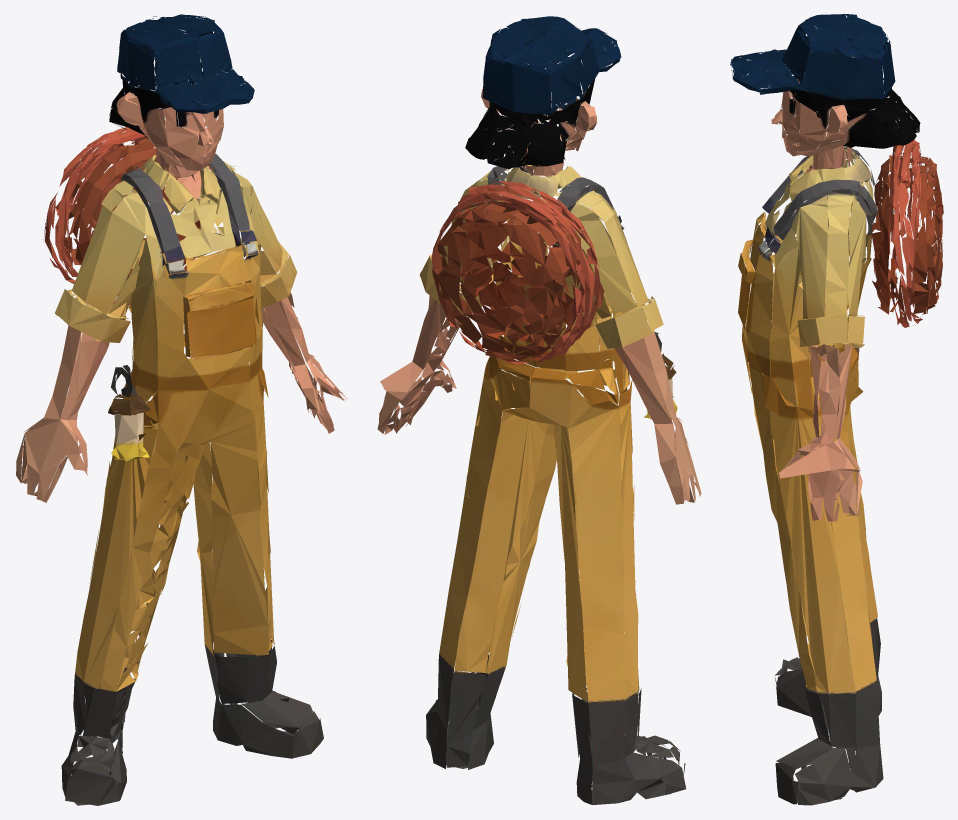
Rendered from habitant.glb.
3 views of the same model, side by side, from view 1: azimuth 30°, elevation 25°; view 2: azimuth 150°, elevation 25°; view 3: azimuth 270°, elevation 25° (orthographic). The views are drawn at different scales.
Parts seen in each view (by area): view 1: world; view 2: world; view 3: world.
Boxes of the visible parts, x1=… form: world: x1=16, y1=14, x2=347, y2=805; world: x1=377, y1=16, x2=701, y2=804; world: x1=730, y1=14, x2=943, y2=805.
Bounding box in the file's own units: 0.4364 × 1 × 0.2683.
1 material, 1 textured.
